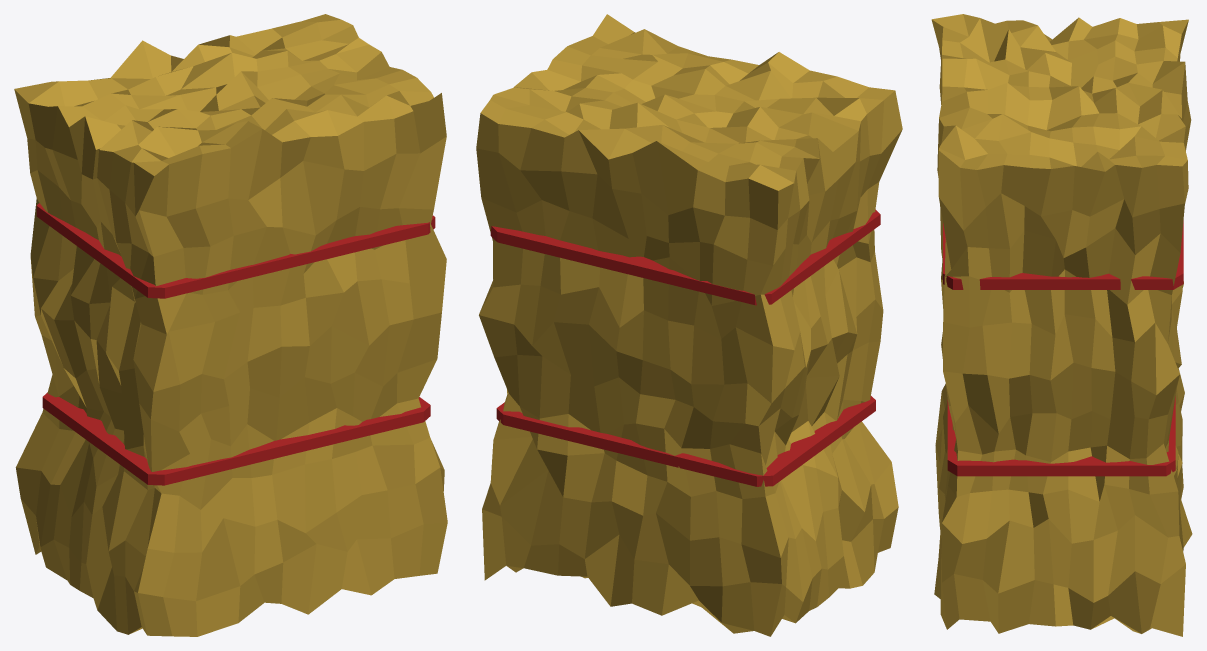
Rendered from hooibaal.fbx.
The picture shows the model from 3 angles, left to right: view 1: azimuth 30°, elevation 25°; view 2: azimuth 150°, elevation 25°; view 3: azimuth 270°, elevation 25°; orthographic projection. The views are drawn at different scales.
Visible parts, largest first — view 1: Cube, Cube.002, Cube.001; view 2: Cube, Cube.002, Cube.001; view 3: Cube, Cube.002, Cube.001.
Part boxes in pixels (x1=…): Cube: x1=14, y1=14, x2=447, y2=636; Cube.002: x1=42, y1=392, x2=430, y2=485; Cube.001: x1=36, y1=203, x2=435, y2=298; Cube: x1=476, y1=14, x2=902, y2=636; Cube.002: x1=496, y1=396, x2=875, y2=486; Cube.001: x1=490, y1=209, x2=880, y2=305; Cube: x1=931, y1=14, x2=1192, y2=636; Cube.002: x1=947, y1=396, x2=1175, y2=476; Cube.001: x1=943, y1=220, x2=1183, y2=289.
Bounding box in the file's own units: 69.74 × 102 × 49.06.
